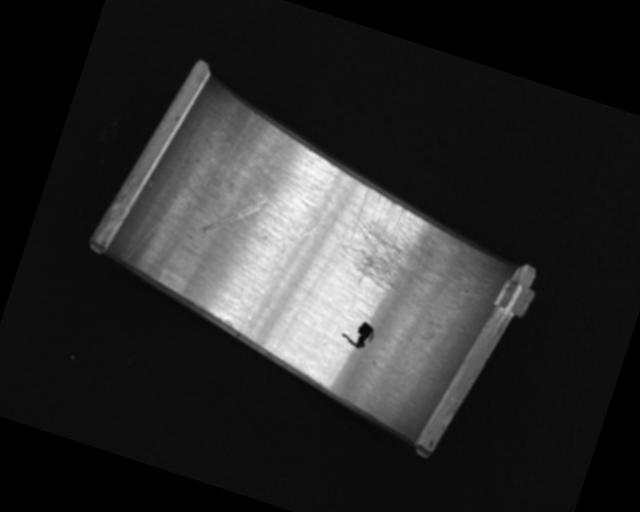blot: (338, 315, 377, 353)
nick: (236, 212, 320, 347), (121, 174, 195, 277), (200, 185, 266, 248), (252, 145, 286, 213)
scratch: (327, 185, 482, 314)
